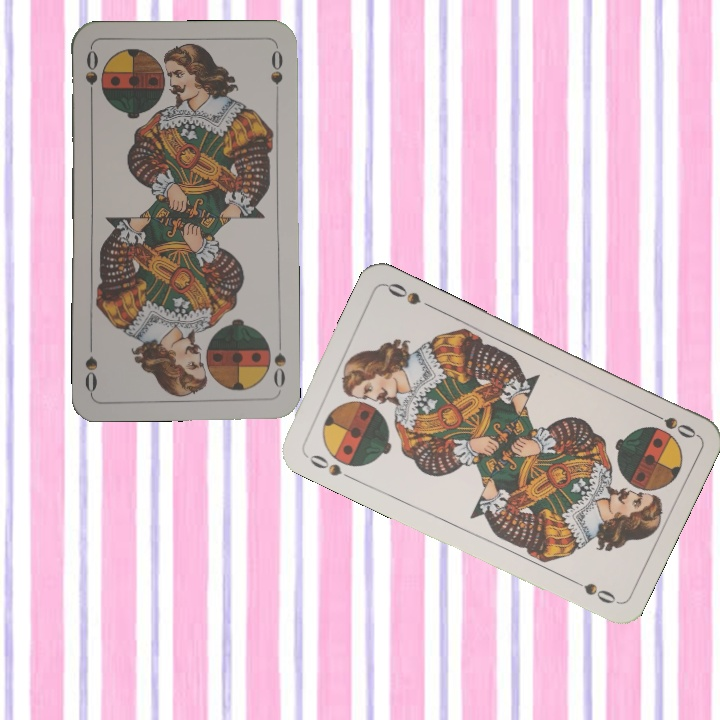SO: (643, 406, 699, 441), (301, 449, 356, 483), (82, 46, 101, 105), (269, 335, 288, 390)
